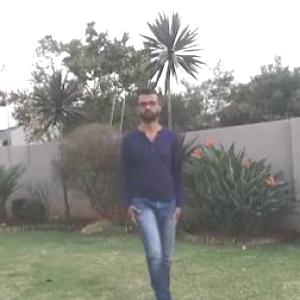follow: (124, 89, 186, 299)
